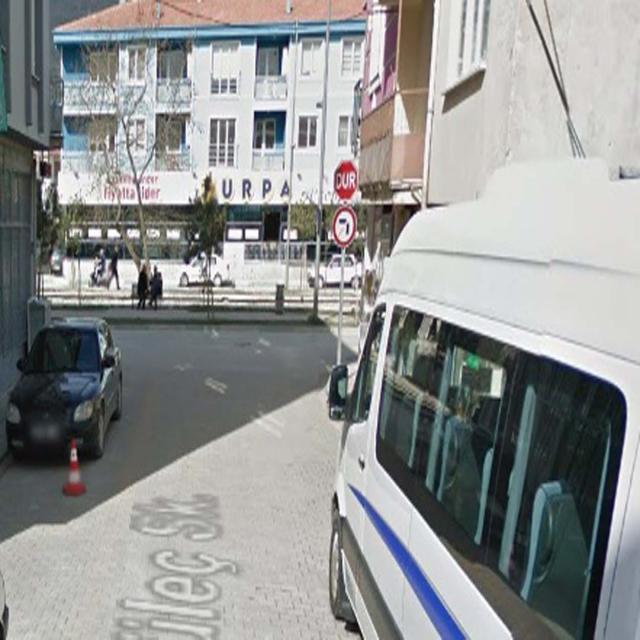dur: (335, 162, 358, 202)
soladonulmez: (333, 208, 357, 246)
